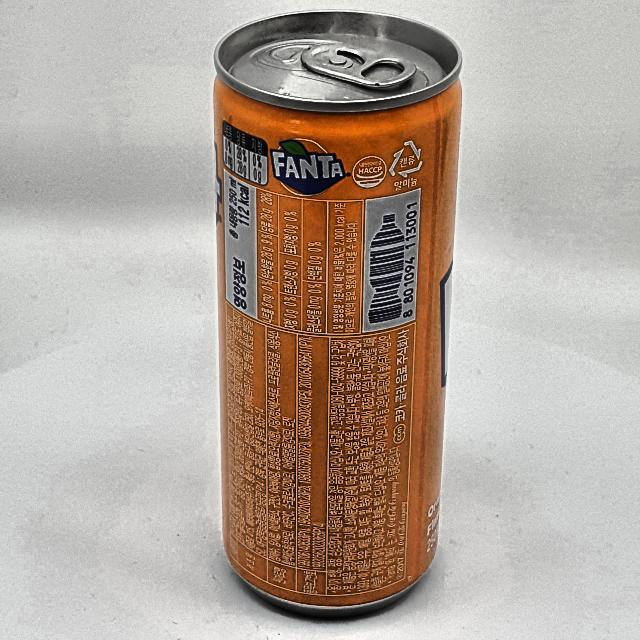fantaorange: (199, 7, 470, 621)
